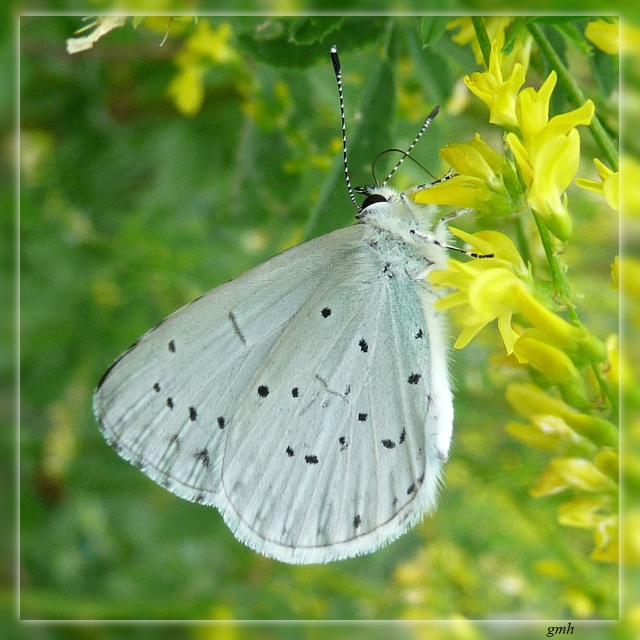Butterfly: (97, 40, 520, 570)
